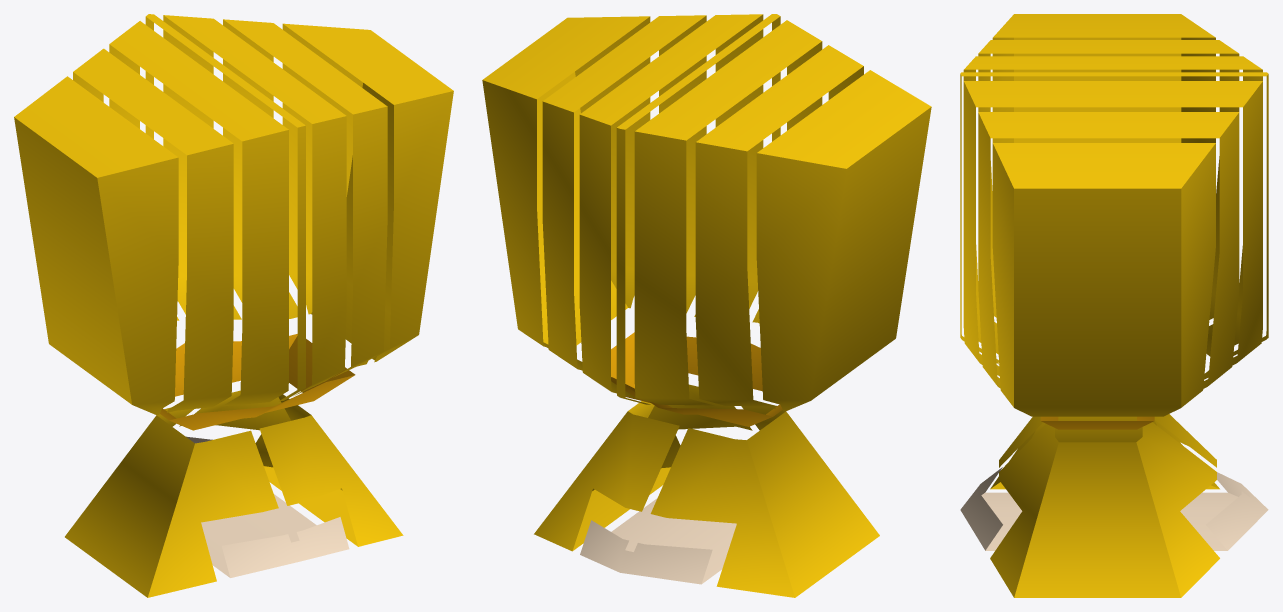
The model's file is C_GH_Body_F3.FBX.
The picture shows the model from 3 angles, left to right: view 1: azimuth 30°, elevation 25°; view 2: azimuth 150°, elevation 25°; view 3: azimuth 270°, elevation 25°; orthographic projection. The views are drawn at different scales.
Visible parts, largest first — view 1: Body; view 2: Body; view 3: Body.
Boxes of the visible parts, box(x1,y1,x2,y2) form: Body: box(14, 14, 453, 597); Body: box(482, 14, 931, 597); Body: box(960, 14, 1268, 597).
Size of the model in its own units: 18.04 by 22.23 by 13.46.
1 material, 1 textured.
